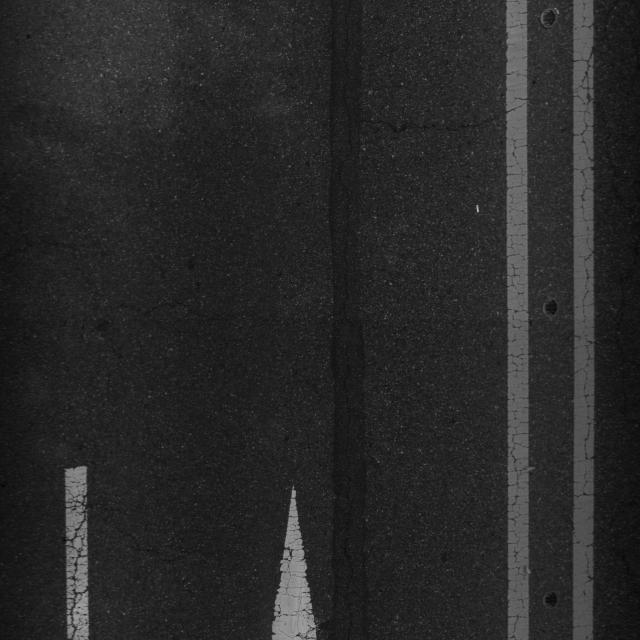forward: (48, 237, 532, 640)
